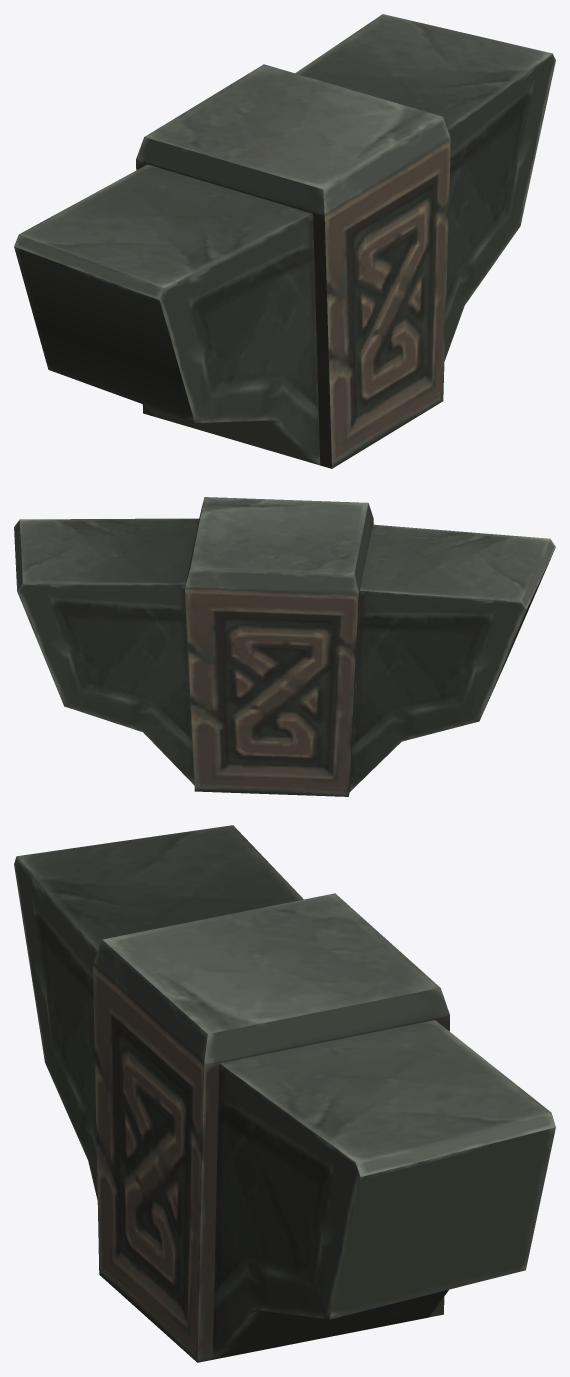
The model's file is sn_newshanlin_menzhu_001.FBX.
3 views of the same model, one above another, from view 1: azimuth 30°, elevation 25°; view 2: azimuth 150°, elevation 25°; view 3: azimuth 270°, elevation 25° (orthographic). The views are drawn at different scales.
Visible parts, largest first — view 1: sn_newshanlin_menzhu_001; view 2: sn_newshanlin_menzhu_001; view 3: sn_newshanlin_menzhu_001.
Boxes of the visible parts, x1,y1,x2,y2 form: sn_newshanlin_menzhu_001: [14, 14, 555, 468]; sn_newshanlin_menzhu_001: [14, 497, 555, 796]; sn_newshanlin_menzhu_001: [14, 825, 555, 1362].
Bounding box in the file's own units: 34.67 × 23.08 × 15.55.
